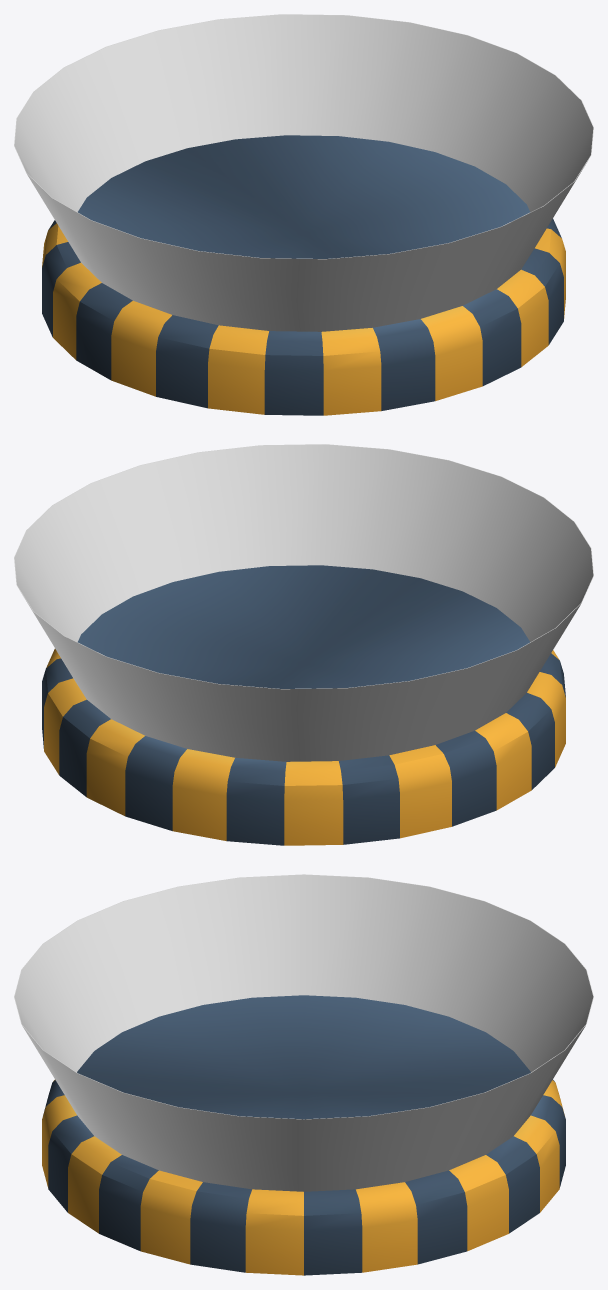
File: Platform.fbx
3 renders of one model, top to bottom at view 1: azimuth 30°, elevation 25°; view 2: azimuth 150°, elevation 25°; view 3: azimuth 270°, elevation 25°, orthographic.
Parts seen in each view (by area): view 1: ending; view 2: ending; view 3: ending.
Part boxes in pixels (left/top/right/bottom): ending: left=14, top=14, right=593, bottom=415; ending: left=14, top=444, right=593, bottom=845; ending: left=14, top=874, right=593, bottom=1275.
Bounding box in the file's own units: 221 × 70.66 × 221.
